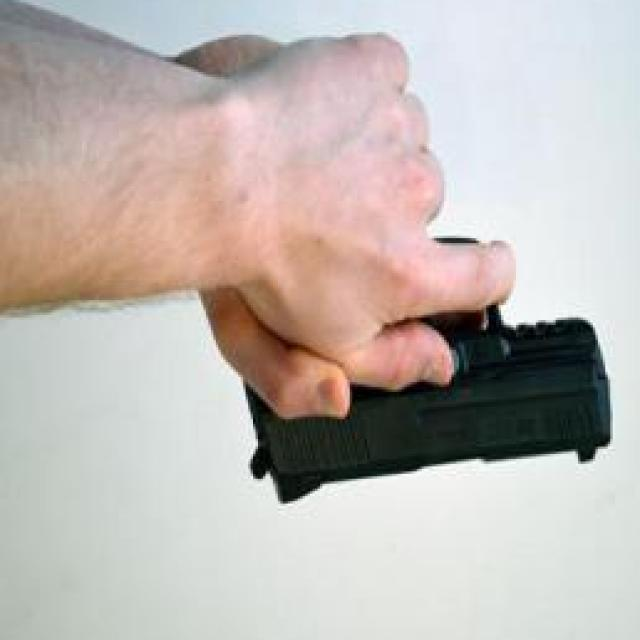pistol: (244, 234, 616, 506)
